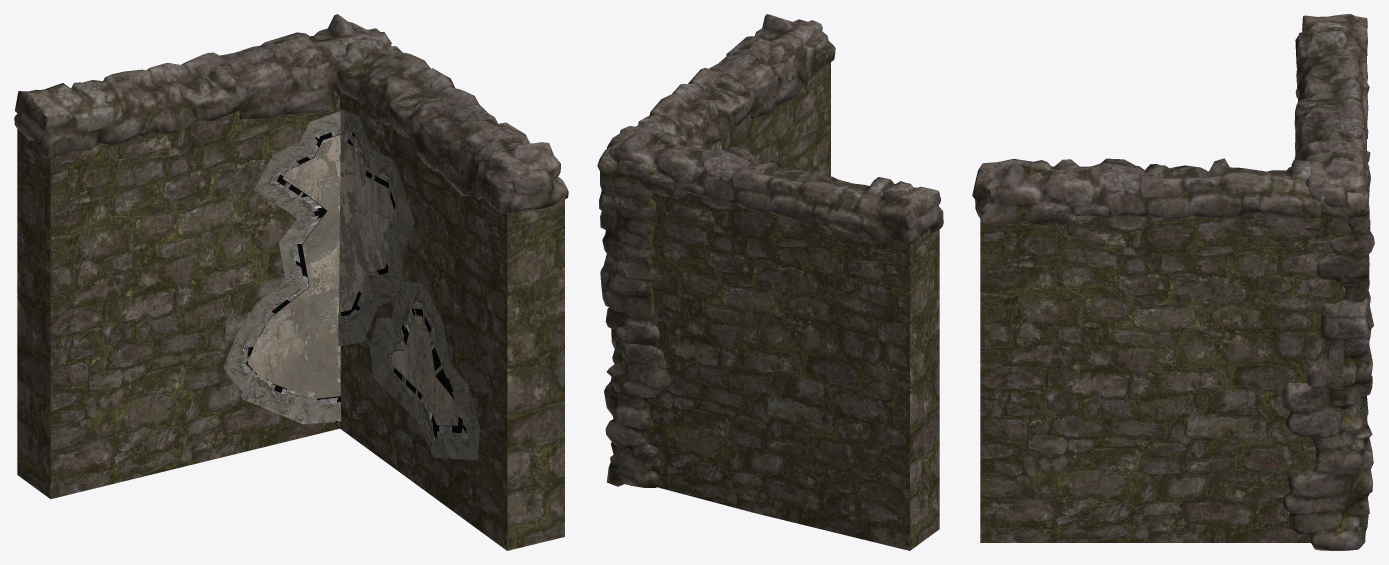
The model's file is jungle_ruins_walls_corner_a.glb.
The picture shows the model from 3 angles, left to right: view 1: azimuth 30°, elevation 25°; view 2: azimuth 150°, elevation 25°; view 3: azimuth 270°, elevation 25°; orthographic projection. The views are drawn at different scales.
Parts seen in each view (by area): view 1: jungle_ruins_walls_corner_A_LOD0; view 2: jungle_ruins_walls_corner_A_LOD0; view 3: jungle_ruins_walls_corner_A_LOD0.
Boxes of the visible parts, x1=… form: jungle_ruins_walls_corner_A_LOD0: x1=14, y1=14, x2=568, y2=550; jungle_ruins_walls_corner_A_LOD0: x1=597, y1=14, x2=943, y2=550; jungle_ruins_walls_corner_A_LOD0: x1=972, y1=14, x2=1374, y2=550.
Bounding box in the file's own units: 3.13 × 3.3 × 3.15.
Materials: 4 (4 with a texture image).
